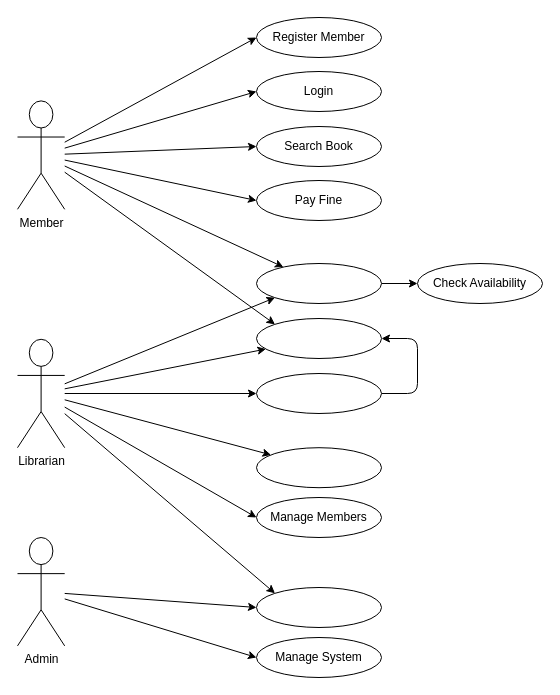
This 560x695 diagram has some shape labels left out. Each missing label, with the centre of its shape:
Borrow Book: the point at 319,283
Calculate Fine: the point at 319,393
Generate Report: the point at 319,607
Manage Books: the point at 319,467
Return Book: the point at 319,338
